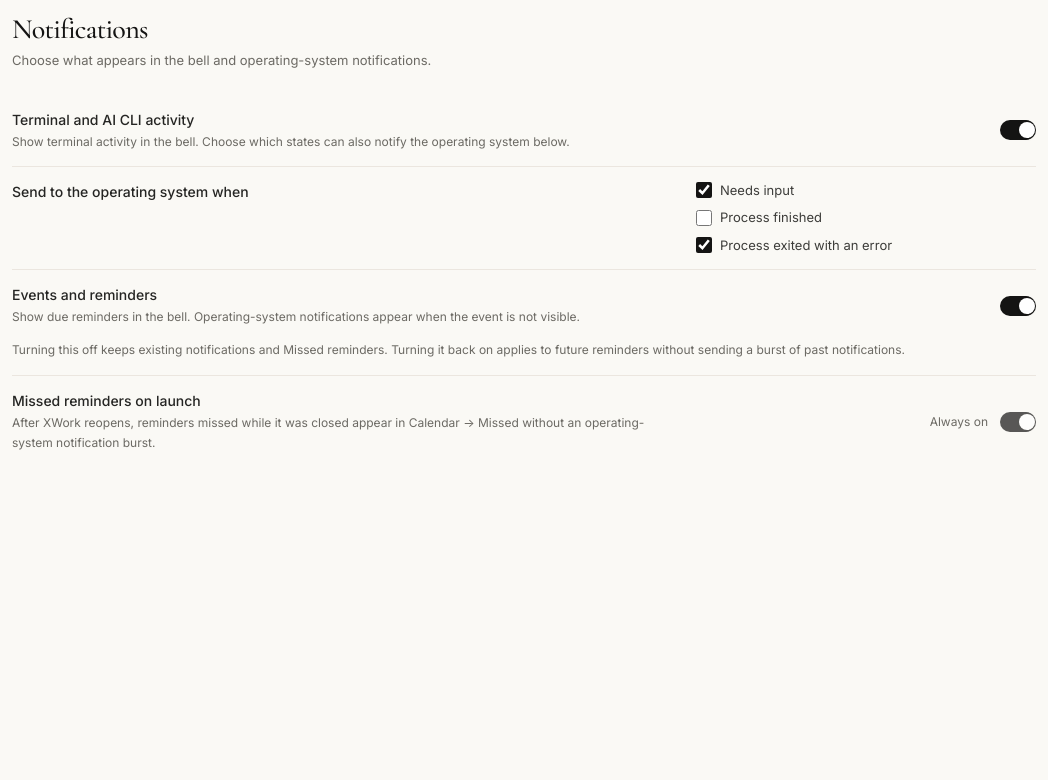
Scenario: reloads after uncertain writes without blindly repeating the mutation
Click the switch named "Events and reminders" at [1018, 306], box 1000,296 -> 1036,316
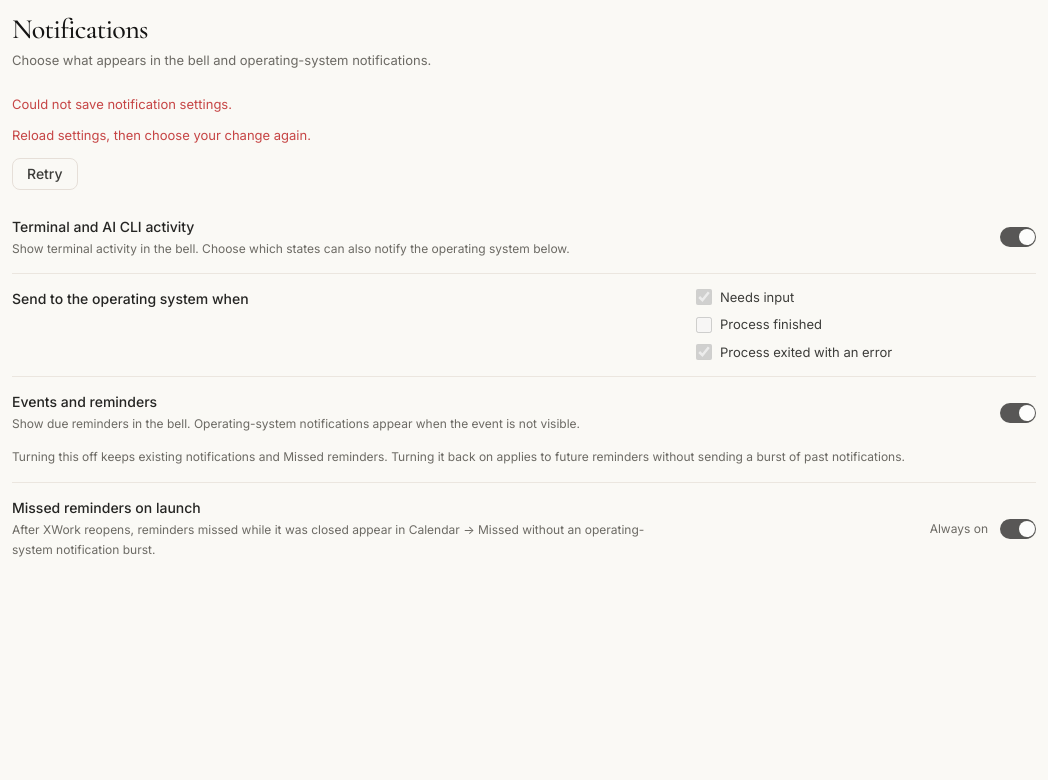
Expected: the message does not show "sensitive", 12,96 -> 311,190
Now the message shows "Could not save notification settings.", box 12,96 -> 232,112
Now the switch named "Events and reminders" is disabled, box 1000,402 -> 1036,422
Click the button "Retry" at [45, 174], box 12,158 -> 78,190
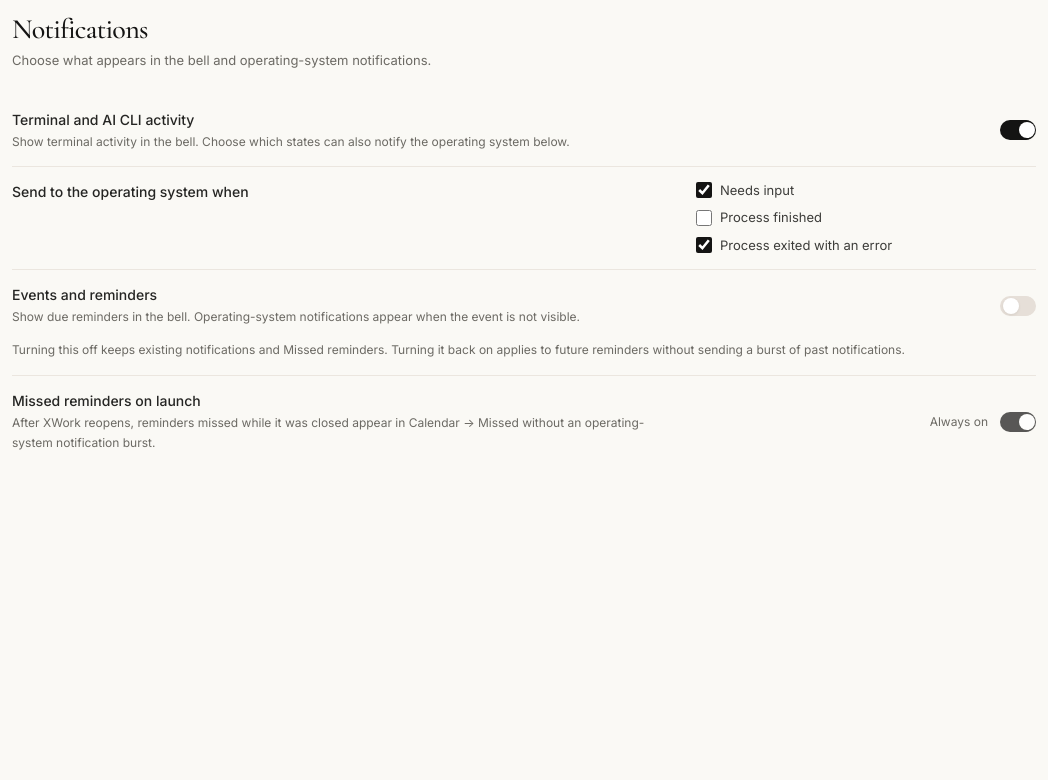
Now the switch named "Events and reminders" is not checked, box 1000,296 -> 1036,316
Now the switch named "Events and reminders" is enabled, box 1000,296 -> 1036,316
